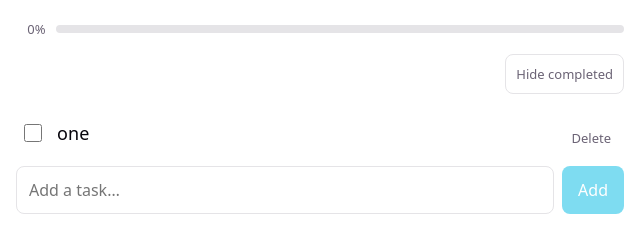
Test: TodoPage › toggling a checkbox persists and updates the percentage
This screenshot has width=641, height=231.
Click the checkbox with test id "todo-checkbox": (33, 133) [24,124,42,142]
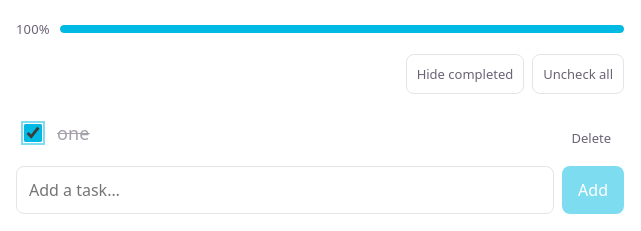
Check: the text "100%" is shown, box [16,16,50,42]
